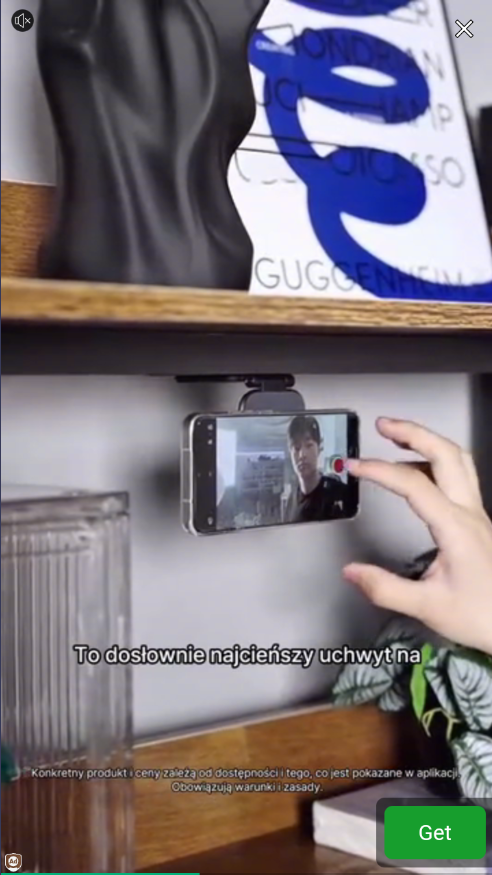close_button: (454, 18, 473, 39)
